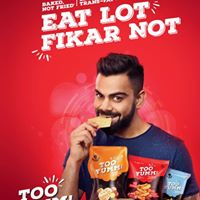plastic: (91, 148, 127, 199), (129, 157, 161, 198), (171, 183, 181, 198)
tooyumm: (17, 179, 74, 200), (96, 160, 124, 176), (136, 164, 161, 178), (168, 181, 182, 192)
wrapper: (126, 160, 170, 197), (162, 174, 189, 194)
